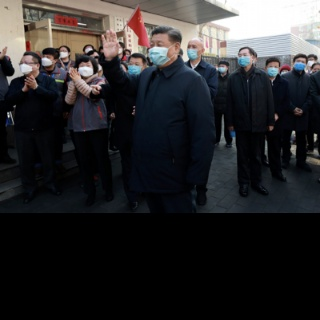with_mask: (149, 39, 176, 67), (187, 42, 200, 60), (78, 62, 93, 77), (127, 60, 142, 75), (20, 60, 34, 76), (237, 52, 251, 68), (41, 54, 53, 67), (295, 58, 306, 72), (268, 64, 279, 77), (218, 64, 228, 74), (59, 48, 68, 59), (85, 47, 94, 55), (308, 57, 314, 68)
